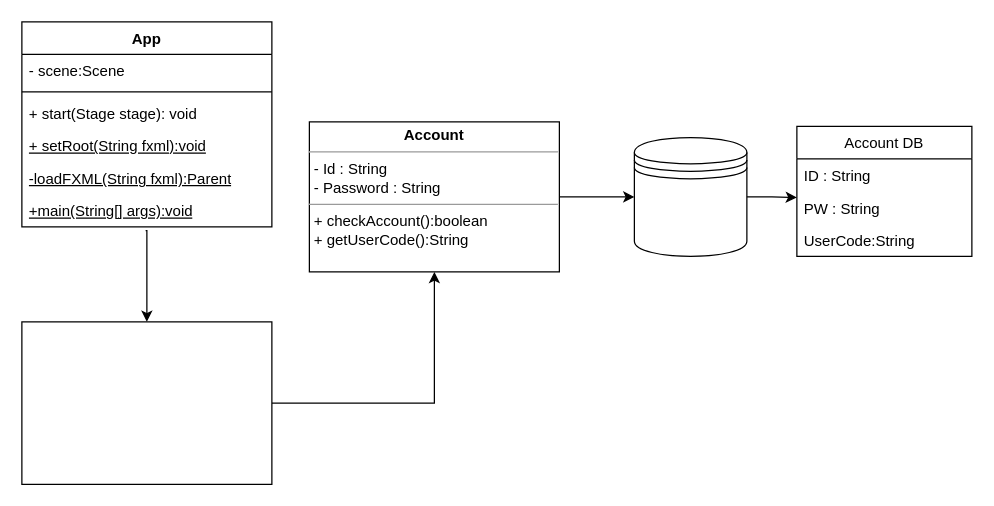
Image size: 994x506. Some labels were removed from this diagram. Each missing label, with the centre of its shape:
DBMS: the point at 690,196
LoginController - IdEntry : Entry - PwEntry : Entry - swtichView(): void: the point at 146,402
